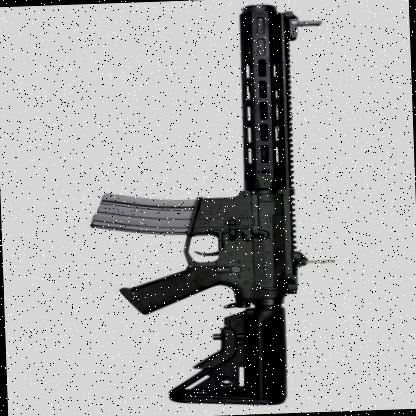rifle: (98, 4, 334, 412)
